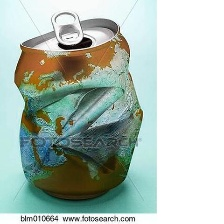can: (11, 7, 144, 203)
